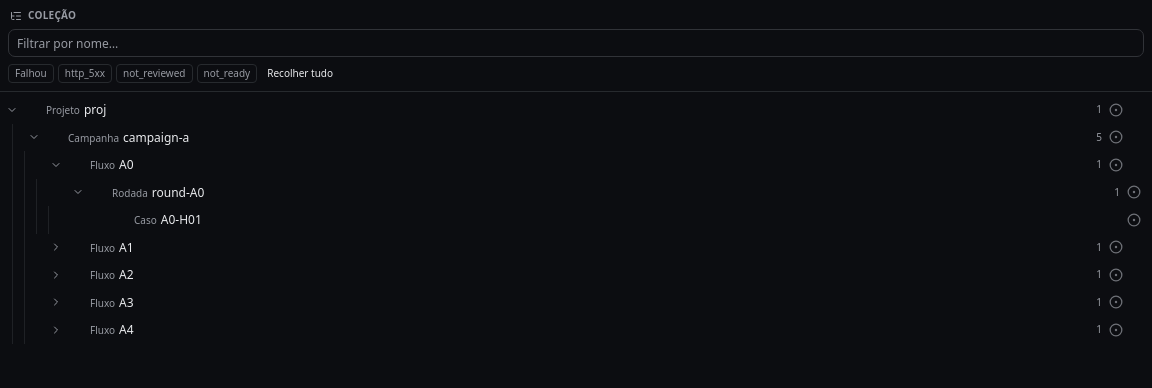
CollectionTree › still hides what the filter excludes, once a branch is opened
Expected: the text "round-A1" is not shown
Click the button named "Expandir A1". click: (56, 247)
box: [48,239,64,255]
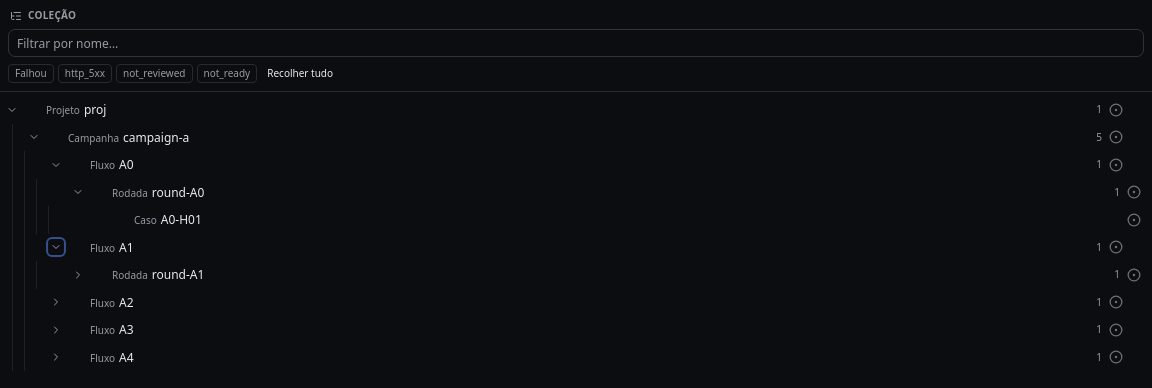
Expected: the text "round-A1" is shown, [152,266,204,283]
